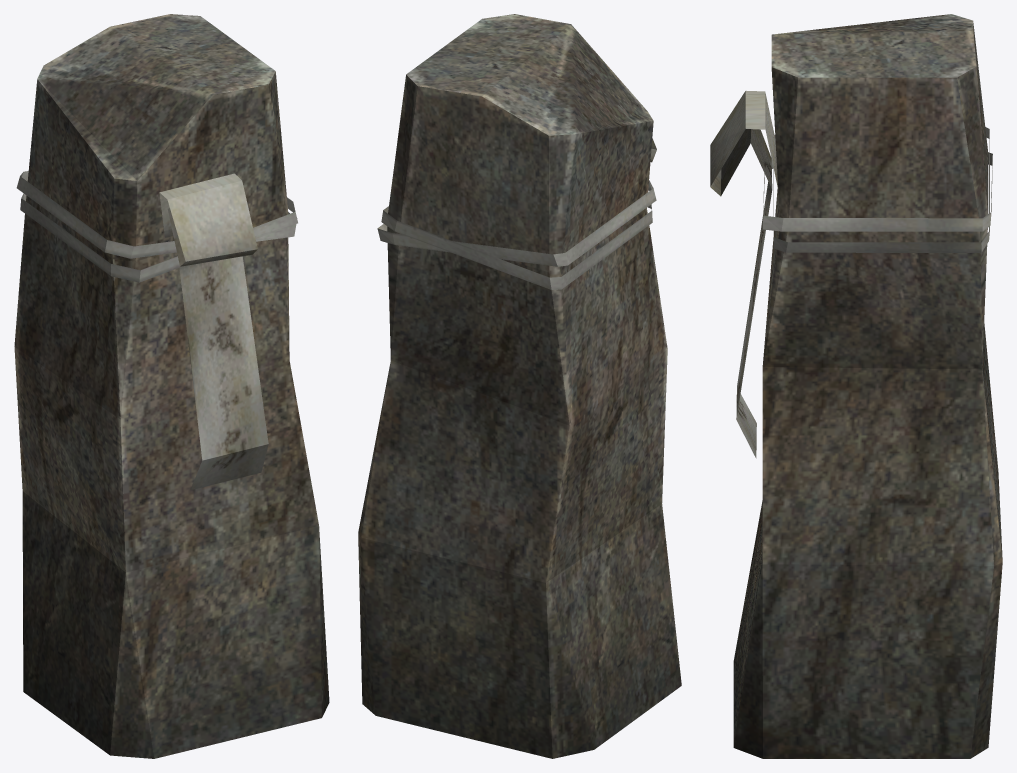
File: shrine_08.fbx
3 renders of one model, left to right at view 1: azimuth 30°, elevation 25°; view 2: azimuth 150°, elevation 25°; view 3: azimuth 270°, elevation 25°, orthographic. The views are drawn at different scales.
Parts seen in each view (by area): view 1: Shrine_08; view 2: Shrine_08; view 3: Shrine_08.
Boxes of the visible parts, box(x1,y1,x2,y2) form: Shrine_08: box(14, 14, 329, 758); Shrine_08: box(358, 14, 681, 758); Shrine_08: box(710, 14, 1002, 758).
Bounding box in the file's own units: 1.14 × 3.14 × 1.25.
